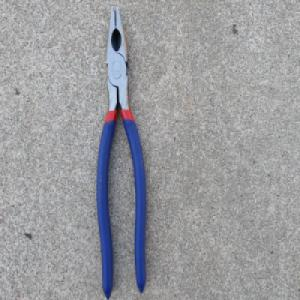Pliers: (95, 4, 149, 300)
